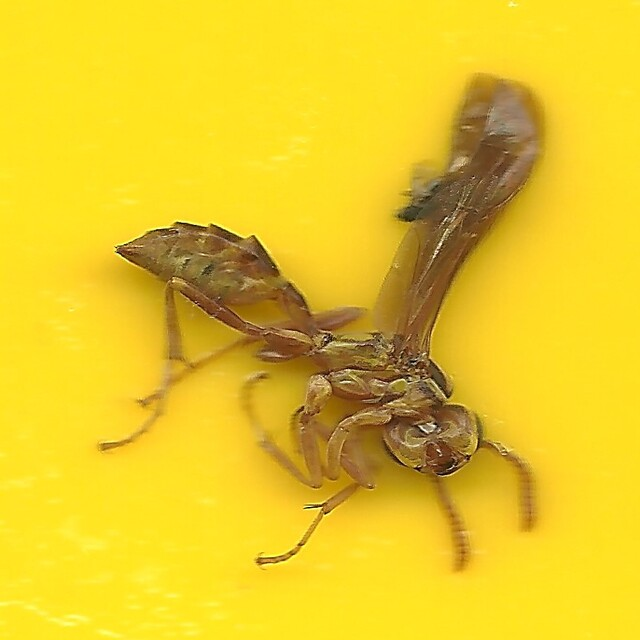Hymenoptera: (93, 71, 547, 569)
